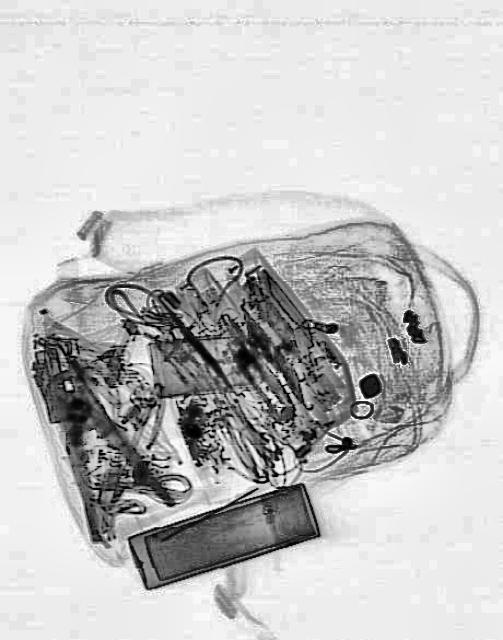Pliers: (22, 342, 174, 550)
